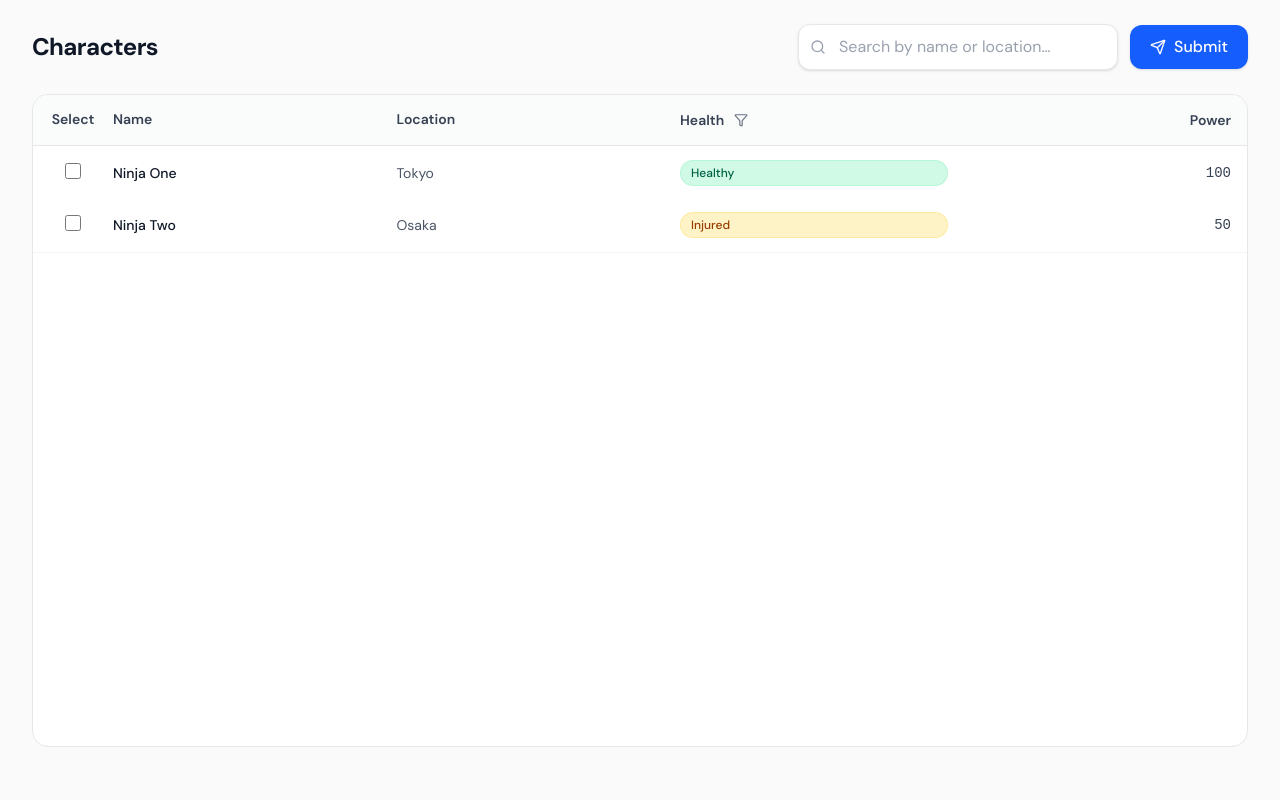
it: CharactersTable › filters by search when user types
The width and height of the screenshot is (1280, 800).
Expected: the text "Ninja One" is shown, [113, 164, 177, 182]
In the field with placeholder "Search by name or location…": (958, 47) [798, 24, 1118, 70], type "One"
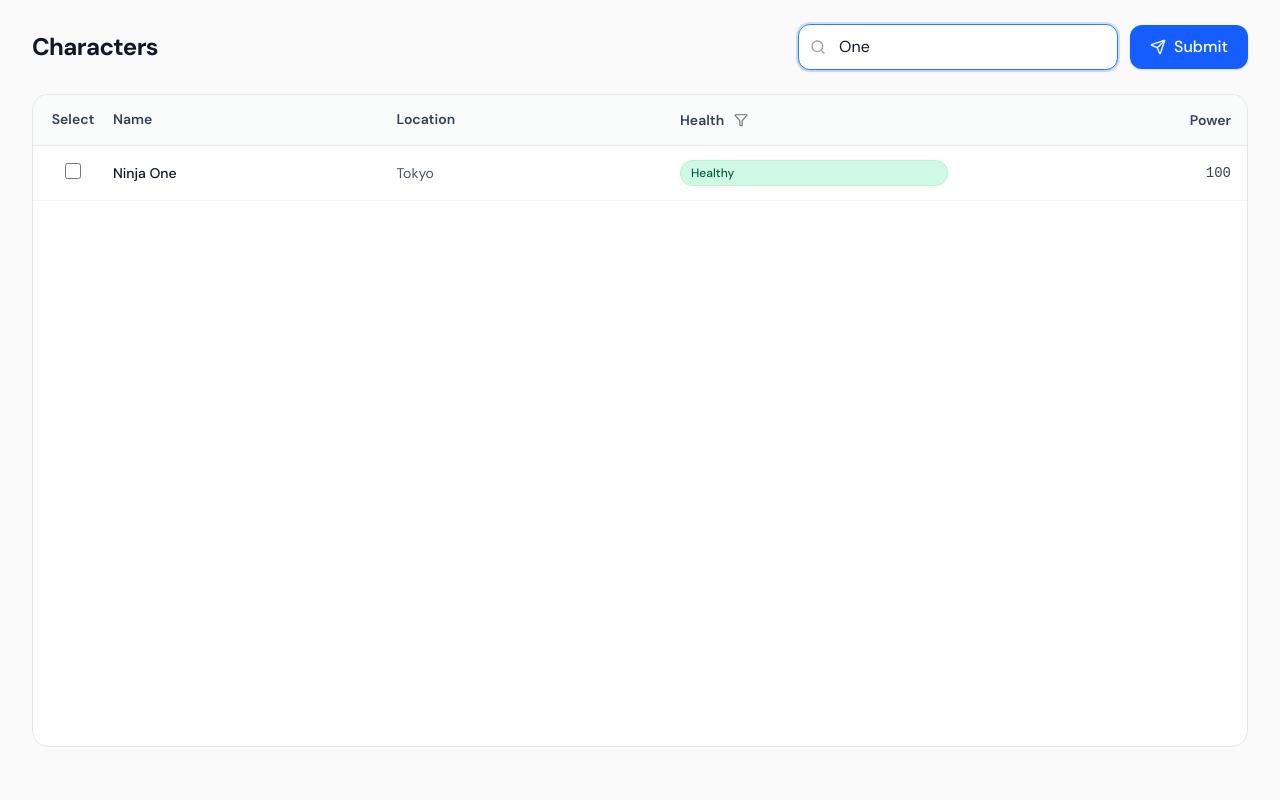
Expected: the text "Ninja One" is shown, [113, 164, 177, 182]
Expected: the text "Ninja Two" is gone
